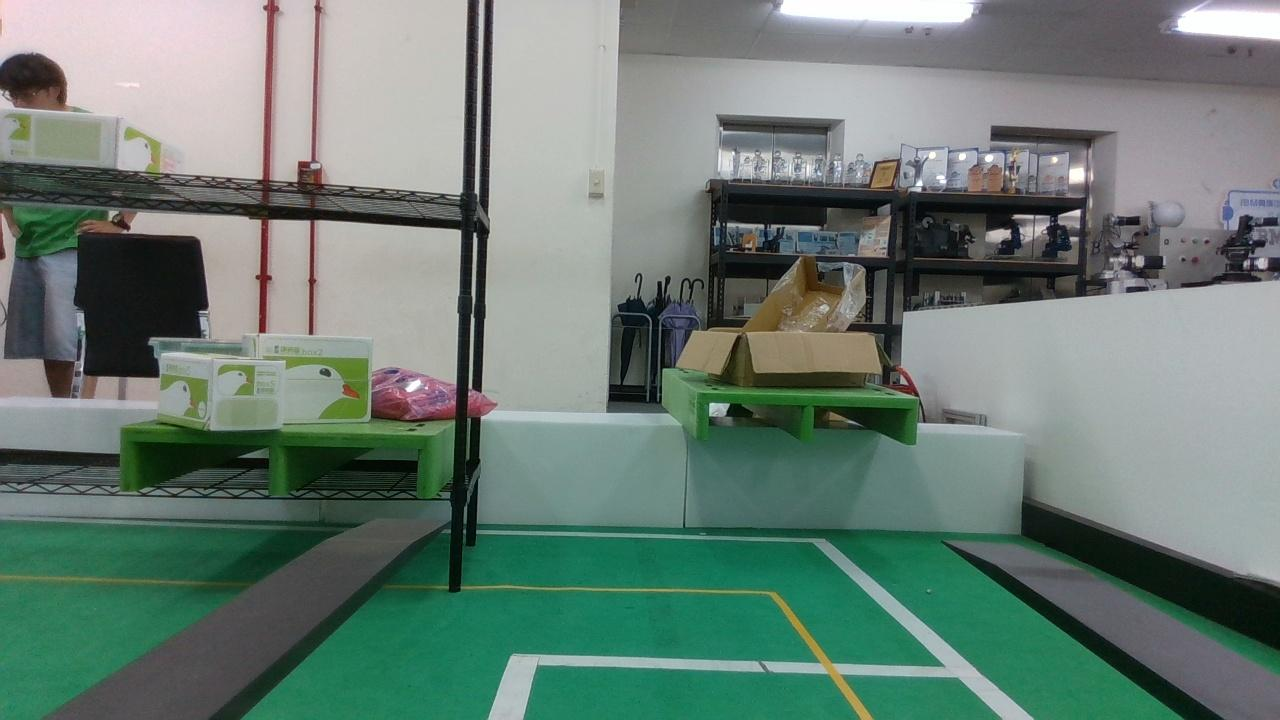Pallet: (120, 424, 439, 499), (696, 391, 919, 445)
